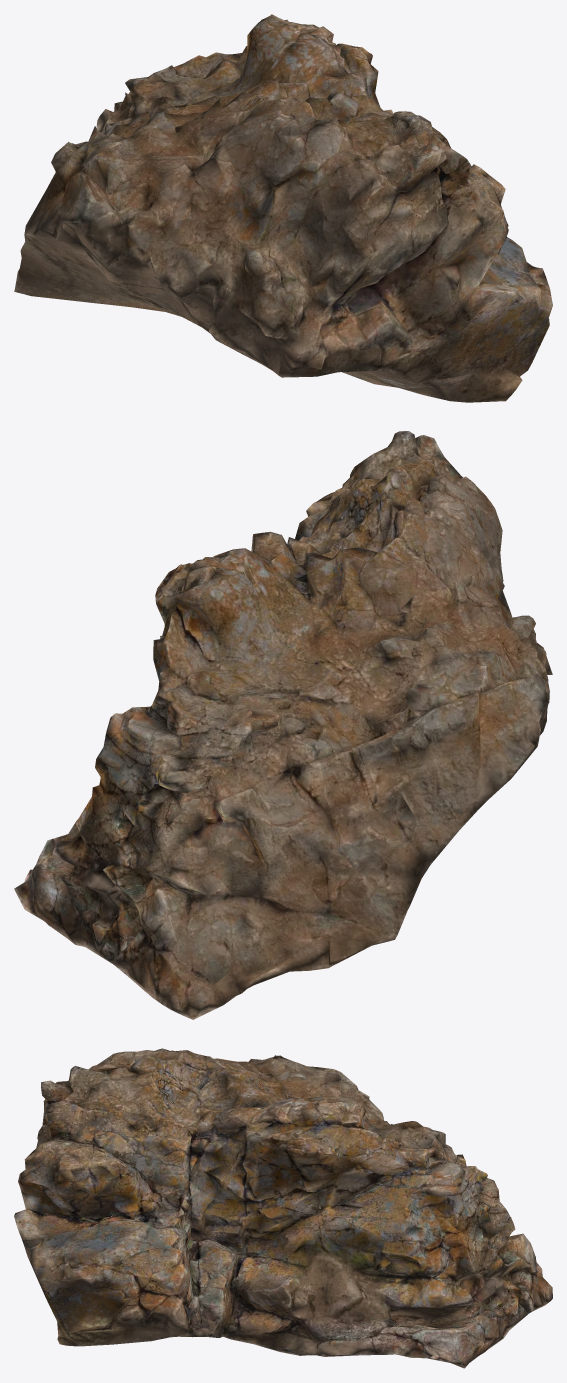
The model's file is boulder.glb.
3 views of the same model, one above another, from view 1: azimuth 30°, elevation 25°; view 2: azimuth 150°, elevation 25°; view 3: azimuth 270°, elevation 25° (orthographic). The views are drawn at different scales.
Parts seen in each view (by area): view 1: boulder_01; view 2: boulder_01; view 3: boulder_01.
Boxes of the visible parts, x1,y1,x2,y2 form: boulder_01: (14, 14, 552, 402); boulder_01: (14, 431, 552, 1019); boulder_01: (14, 1048, 552, 1368).
Size of the model in its own units: 1.27 by 1 by 1.82.
Materials: 1 (1 with a texture image).
